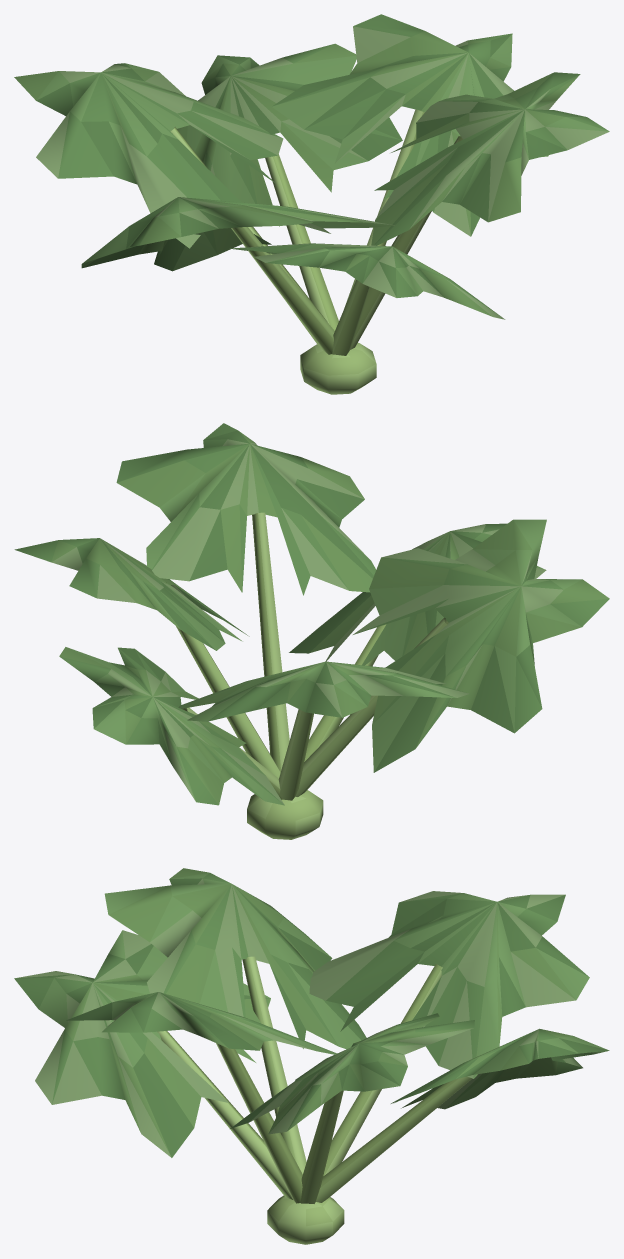
Rendered from courgette_jeune.glb.
The picture shows the model from 3 angles, top to bottom: view 1: azimuth 30°, elevation 25°; view 2: azimuth 150°, elevation 25°; view 3: azimuth 270°, elevation 25°; orthographic projection. The views are drawn at different scales.
Visible parts, largest first — view 1: Courgette_Feuilles, Courgette_Petioles, Courgette_Coeur; view 2: Courgette_Feuilles, Courgette_Petioles, Courgette_Coeur; view 3: Courgette_Feuilles, Courgette_Petioles, Courgette_Coeur.
Part boxes in pixels (x1,y1,x2,y2): Courgette_Feuilles: (14, 14, 609, 319); Courgette_Petioles: (170, 109, 462, 355); Courgette_Coeur: (300, 342, 376, 394); Courgette_Feuilles: (14, 423, 609, 805); Courgette_Petioles: (166, 512, 448, 800); Courgette_Coeur: (247, 790, 323, 839); Courgette_Feuilles: (14, 868, 609, 1157); Courgette_Petioles: (157, 956, 472, 1203); Courgette_Coeur: (267, 1195, 344, 1244).
Bounding box in the file's own units: 0.4711 × 0.2863 × 0.5157.
